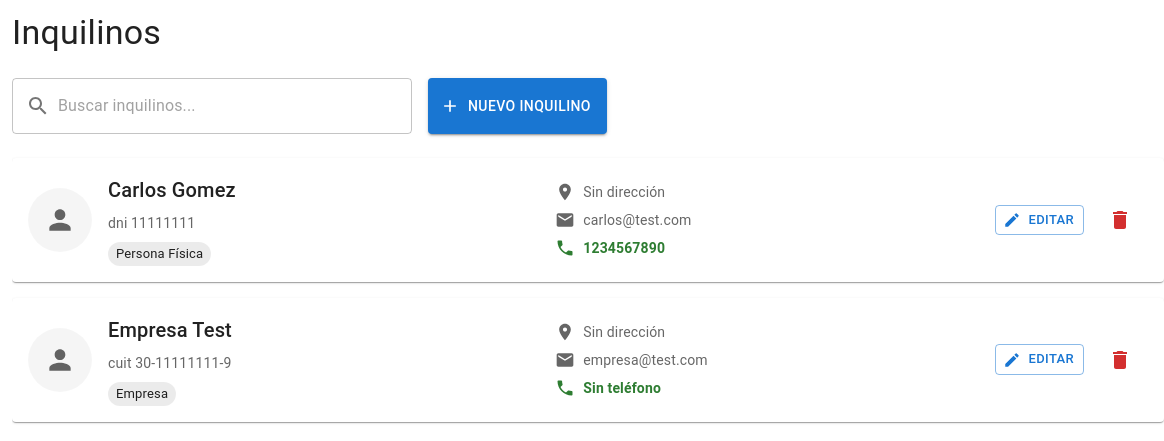
InquilinosPage Component › filters results according to search term
Expected: the heading "Carlos Gomez" is shown, [108, 178, 236, 202]
# Filter for "Empresa"
Type "Empresa" into the field labelled "Buscar inquilinos...".
click(235, 106); type("Empresa")  # box [58, 78, 412, 134]
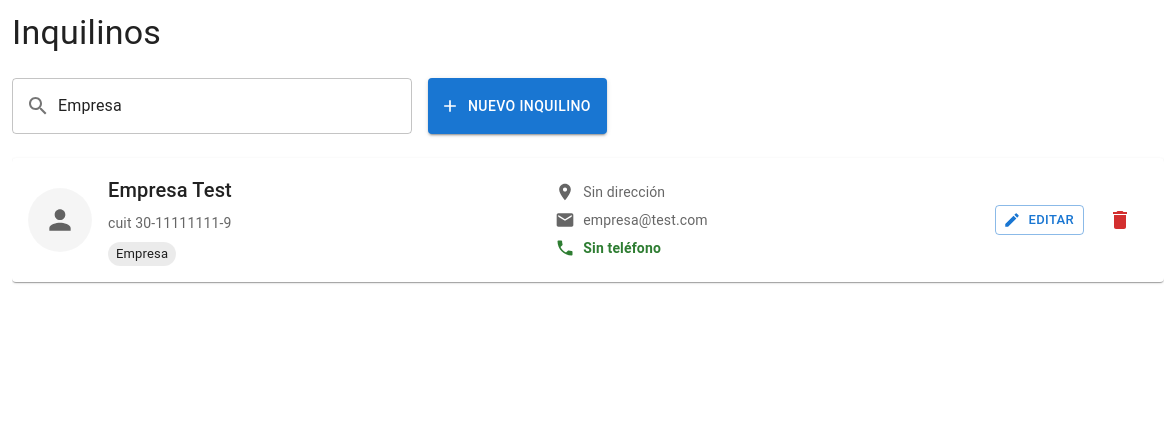
Expected: the heading "Empresa Test" is shown, [108, 178, 232, 202]
Now the heading "Carlos Gomez" is gone
